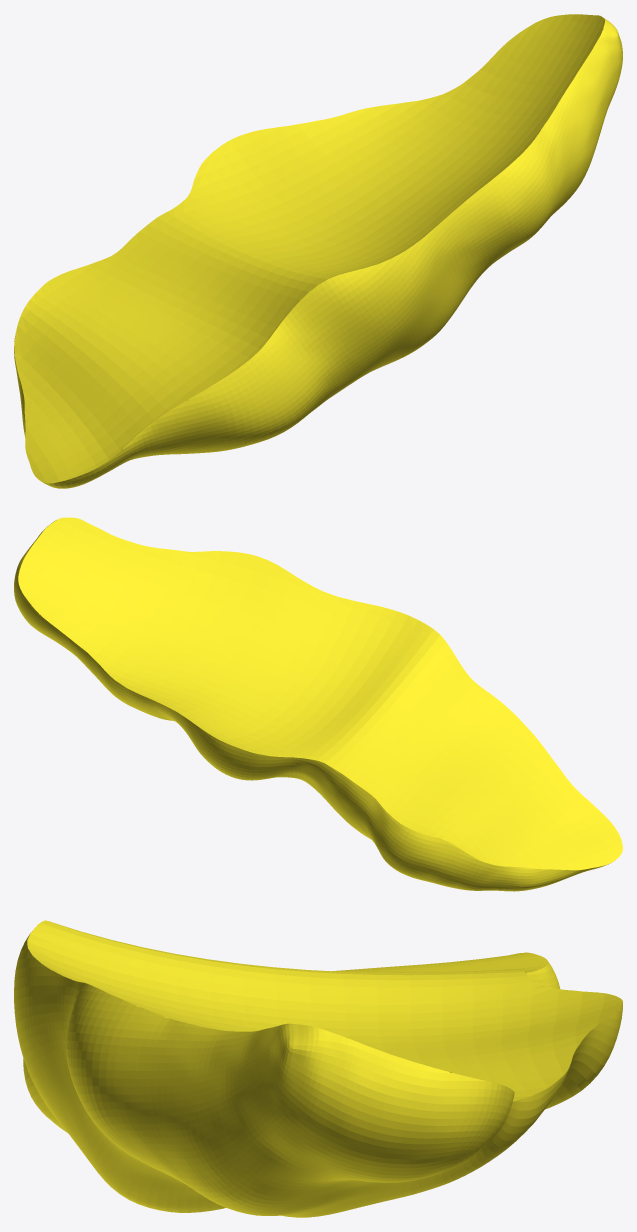
File: 3DPX-023607.glb
The picture shows the model from 3 angles, top to bottom: view 1: azimuth 30°, elevation 25°; view 2: azimuth 150°, elevation 25°; view 3: azimuth 270°, elevation 25°; orthographic projection. The views are drawn at different scales.
Visible parts, largest first — view 1: VH_M_epiploic_appendage_of_transverse_colon; view 2: VH_M_epiploic_appendage_of_transverse_colon; view 3: VH_M_epiploic_appendage_of_transverse_colon.
Part boxes in pixels (x1,y1,x2,y2): VH_M_epiploic_appendage_of_transverse_colon: (14, 14, 622, 488); VH_M_epiploic_appendage_of_transverse_colon: (14, 517, 622, 891); VH_M_epiploic_appendage_of_transverse_colon: (14, 920, 622, 1217).
Bounding box in the file's own units: 0.0861 × 0.0384 × 0.0446.
